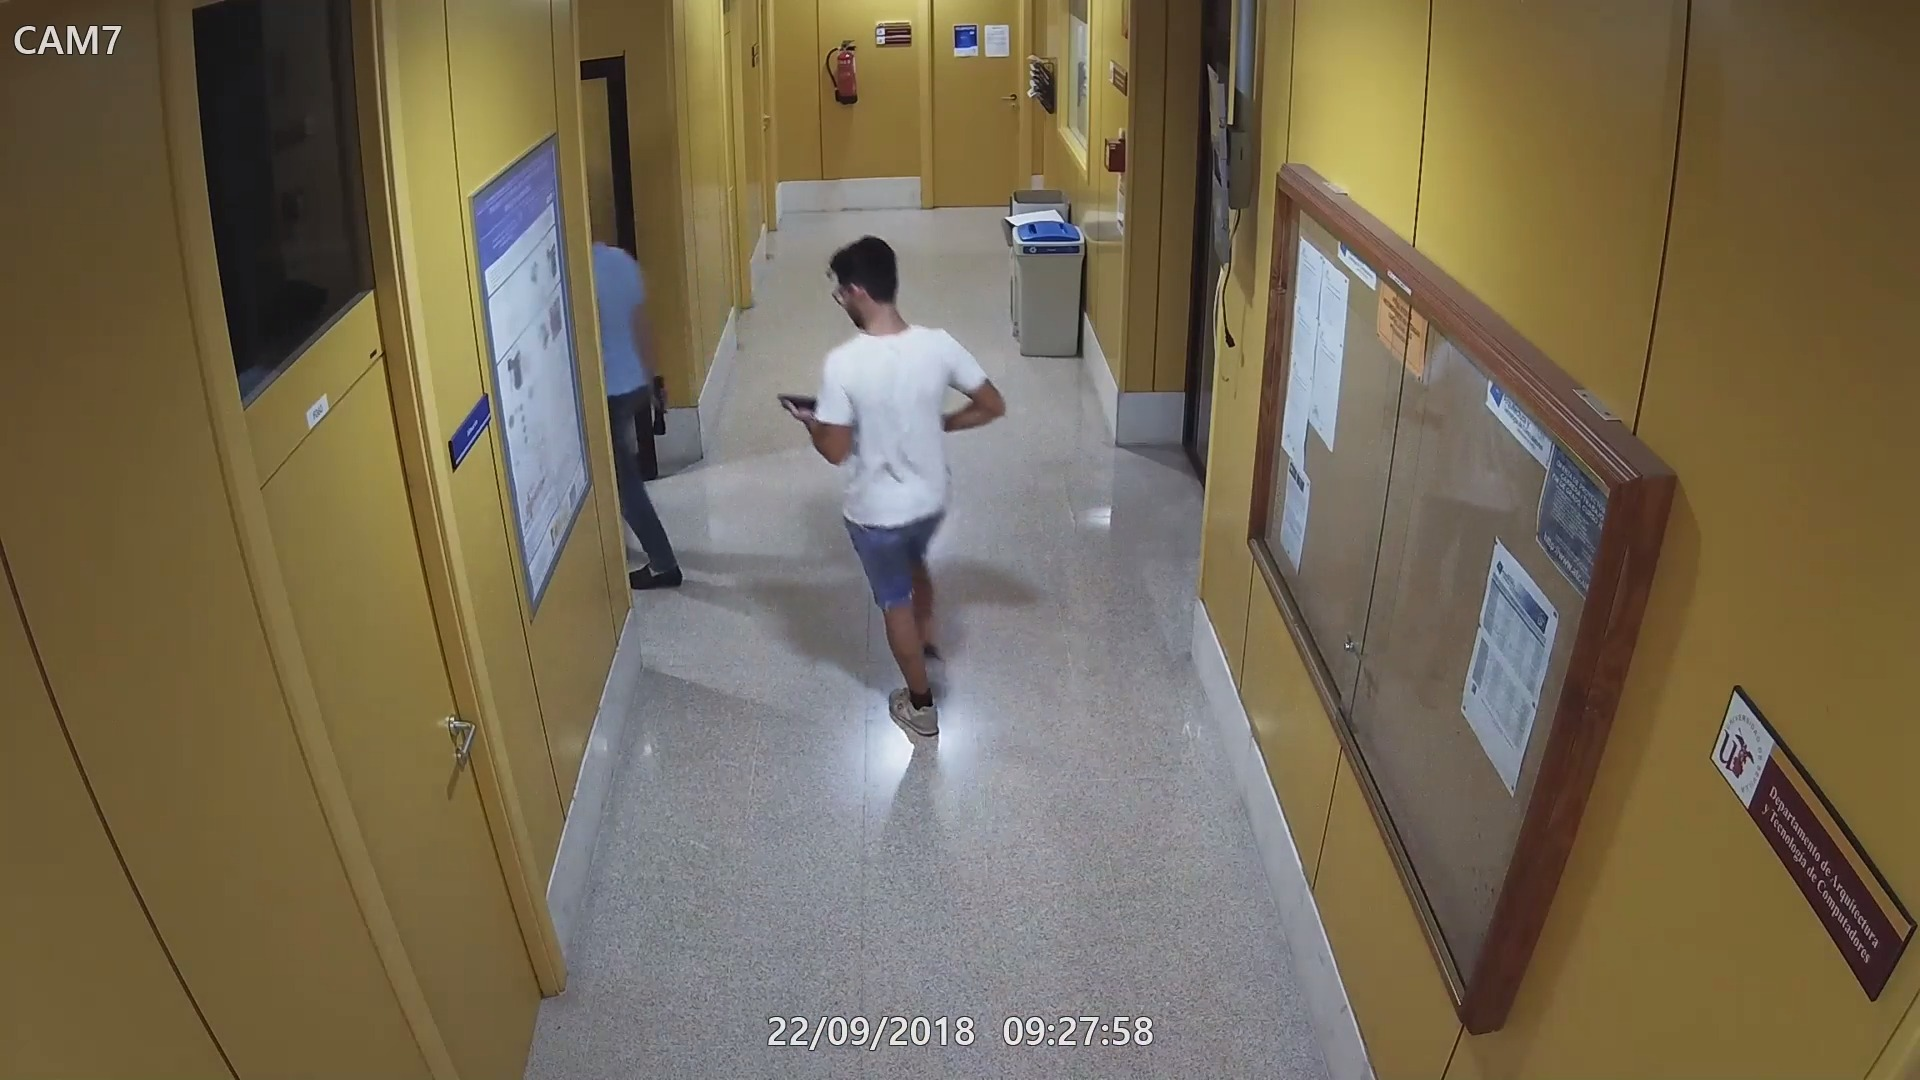Short_rifle: (775, 389, 818, 423)
